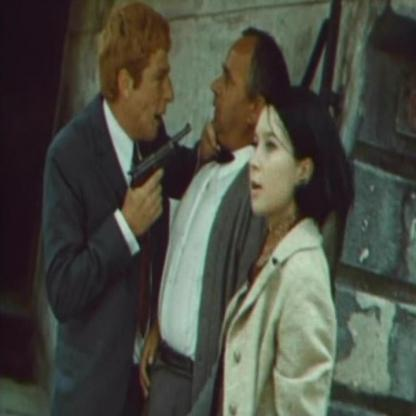gun: (125, 129, 190, 191)
